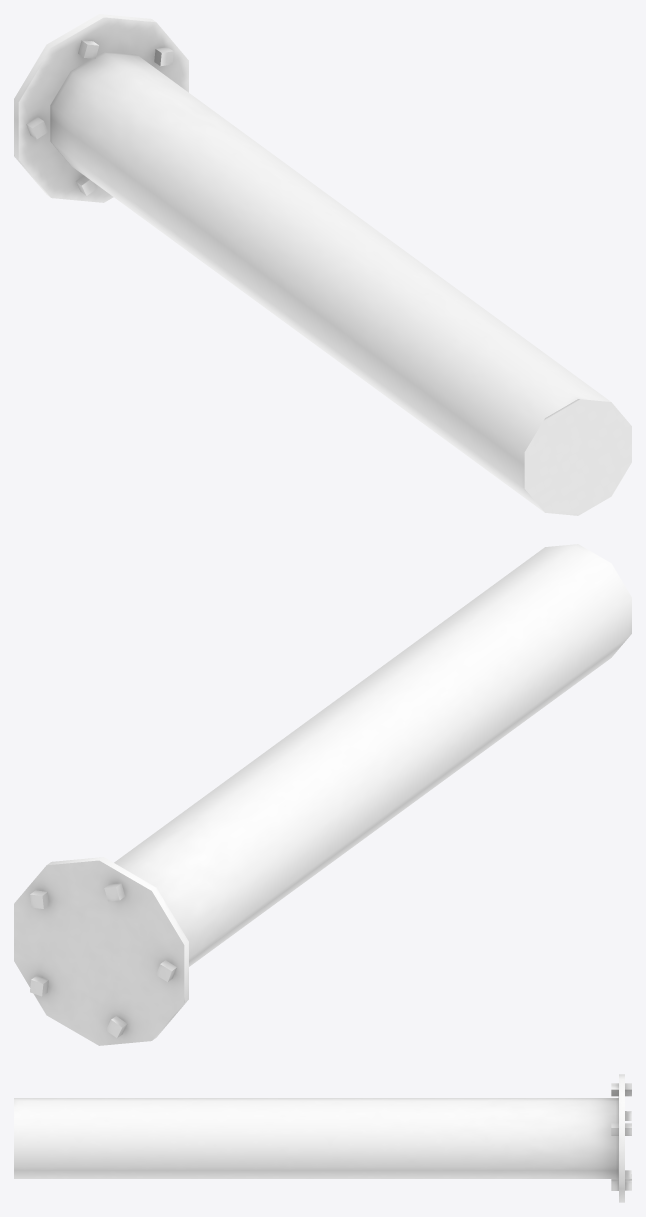
Rendered from PipeStraight.glb.
3 views of the same model, one above another, from view 1: azimuth 30°, elevation 25°; view 2: azimuth 150°, elevation 25°; view 3: azimuth 270°, elevation 25° (orthographic). The views are drawn at different scales.
Visible parts, largest first — view 1: PipeStraight; view 2: PipeStraight; view 3: PipeStraight.
Boxes of the visible parts, box(x1,y1,x2,y2) form: PipeStraight: box(14, 14, 631, 515); PipeStraight: box(14, 544, 631, 1045); PipeStraight: box(14, 1074, 631, 1202).
Size of the model in its own units: 0.3965 by 0.4124 by 1.95.
1 material, 1 textured.
